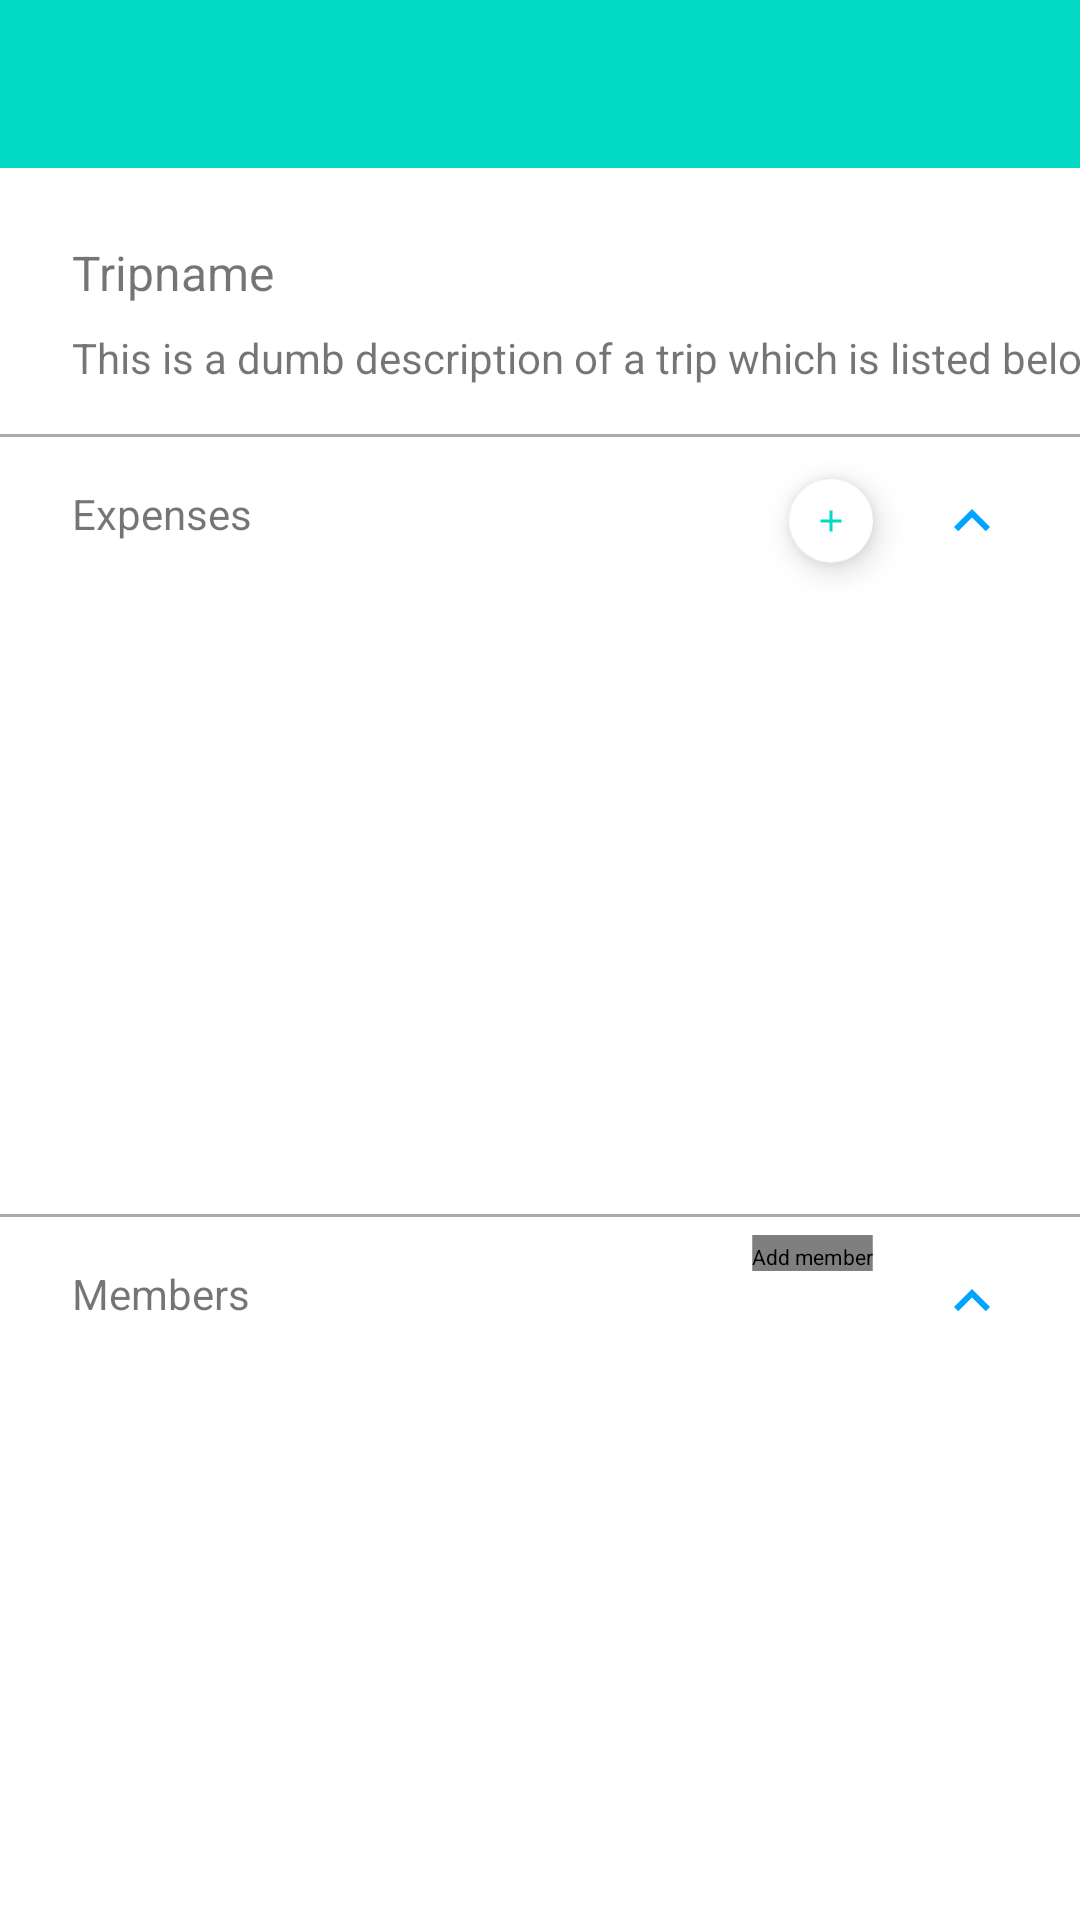

Icon bounding boxes for this 1080w x 1920h phone screenshot, format box=[x1, y1, x2, y2]:
expand less: box=[954, 509, 990, 531], box=[954, 1289, 990, 1311]
